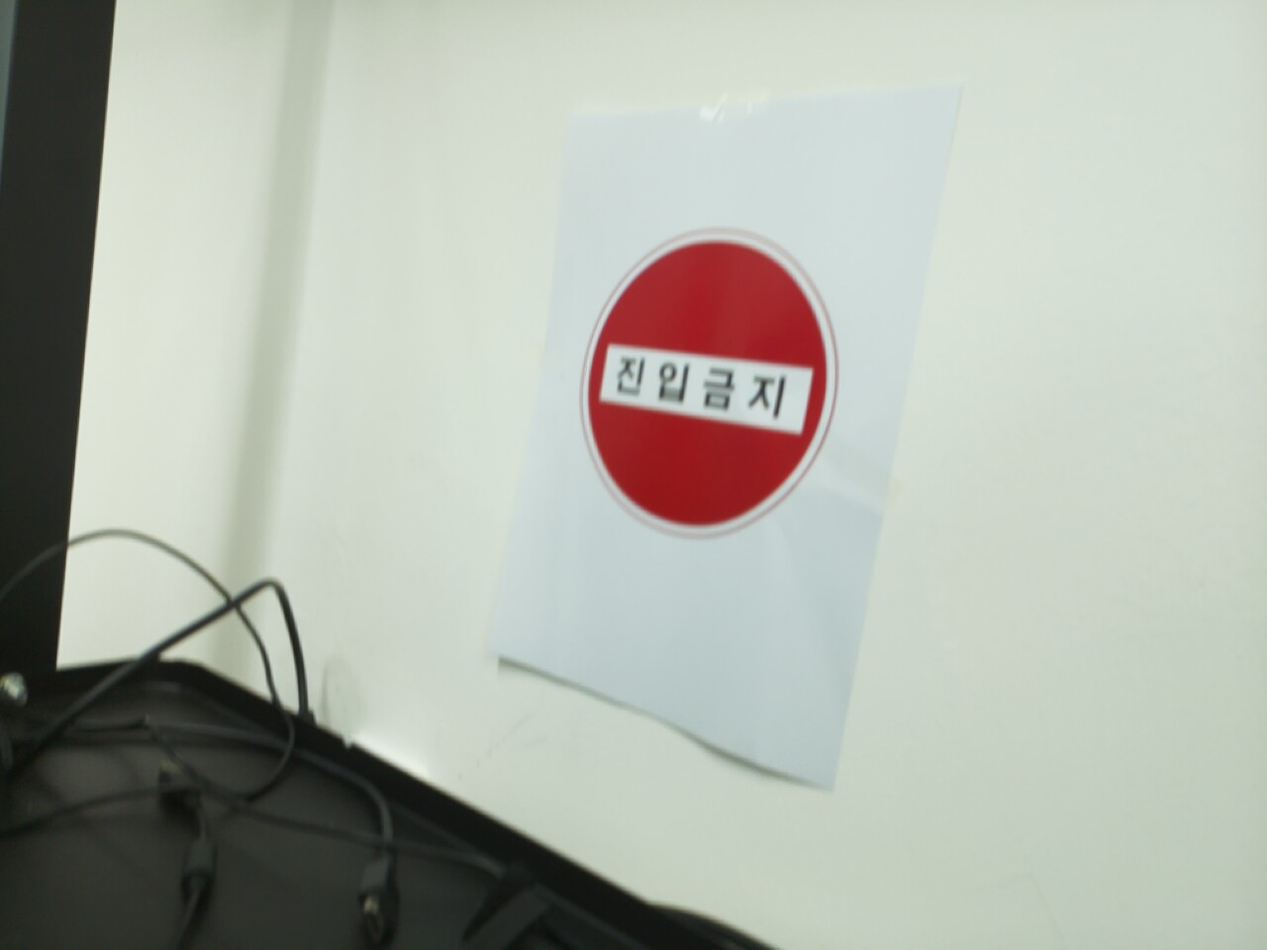do_not_enter: (580, 233, 834, 534)
